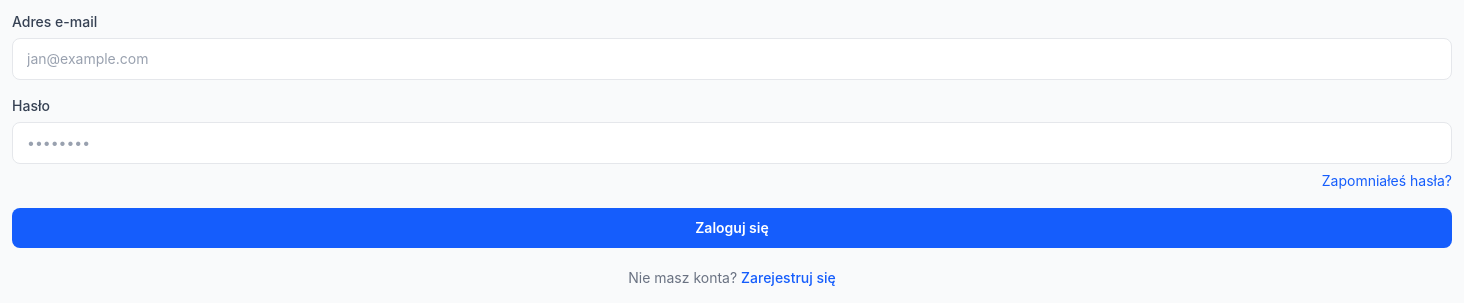
Test: LoginForm › shows loading state while logging in
The width and height of the screenshot is (1464, 303).
Type "user@test.pl" into the field labelled "Adres e-mail" at (732, 59), box [12,38,1452,80]
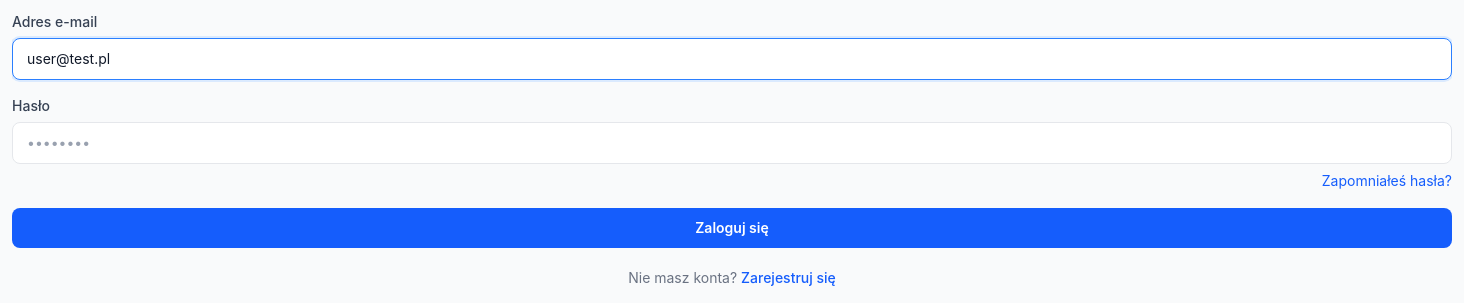
Type "haslo123" into the password field labelled "Hasło" at (732, 143), box [12,122,1452,164]
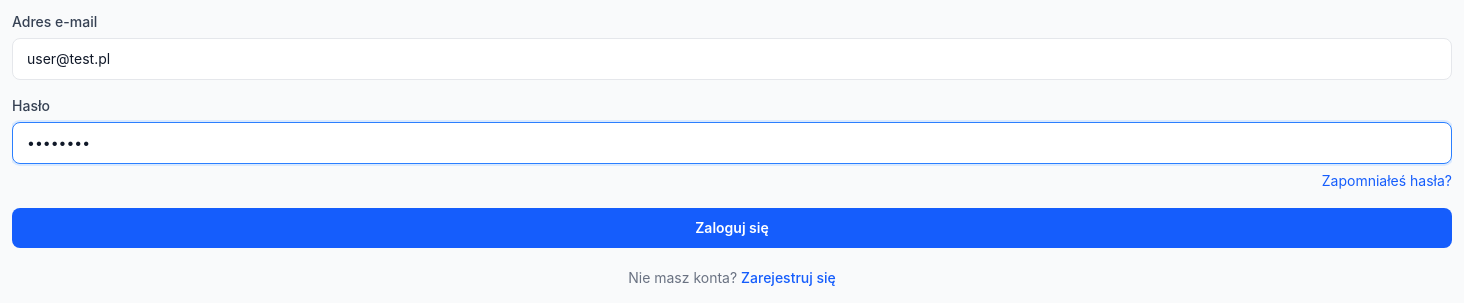
Click the button "Zaloguj się" at (732, 228), box [12,208,1452,248]
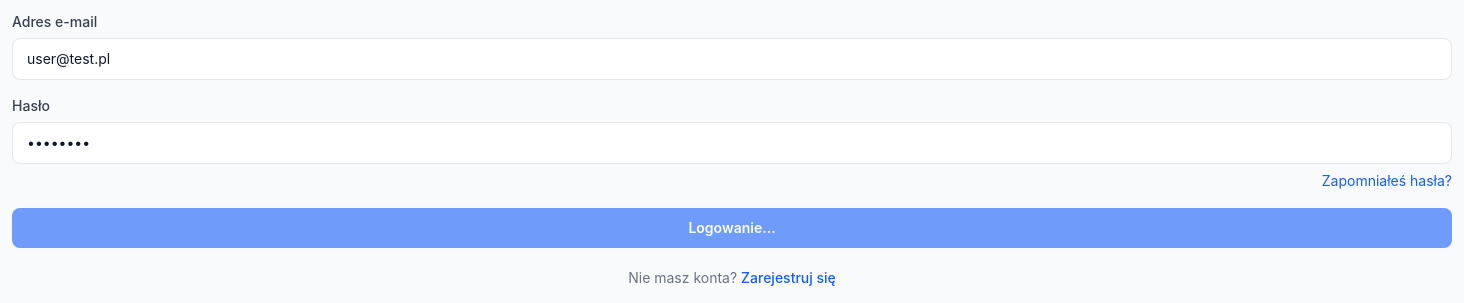
Now the button "Logowanie…" is disabled, box [12,208,1452,248]
